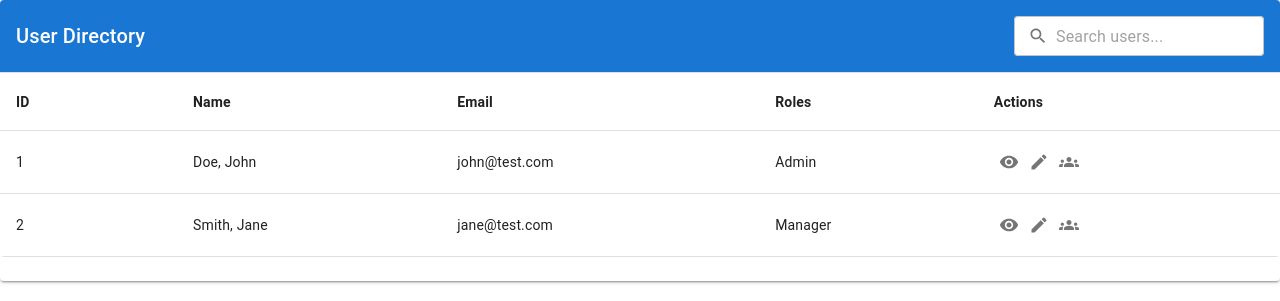
Scenario: UsersView › should filter users based on search input
Expected: the text "Doe, John" is shown, [177,131,441,194]
Type "Jane" into the field with placeholder "Search users..." at (1160, 36), box [1056,16,1264,56]
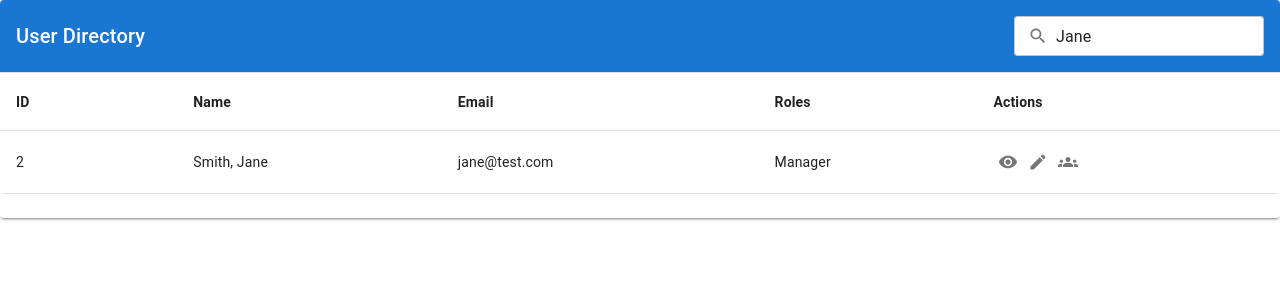
Expected: the text "Smith, Jane" is shown, [177,131,442,194]
Expected: the text "Doe, John" is gone
